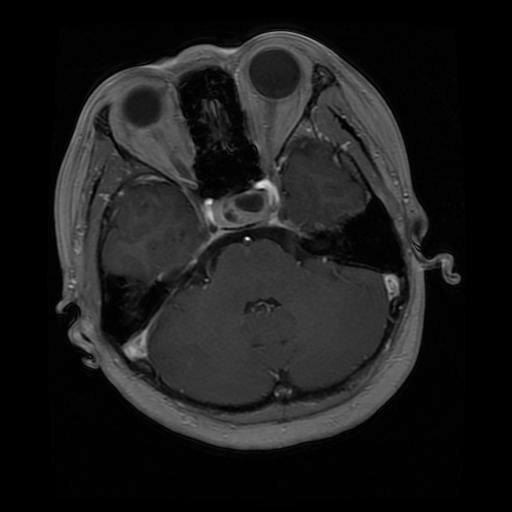Tumour-Pituitary: (199, 181, 285, 243)
